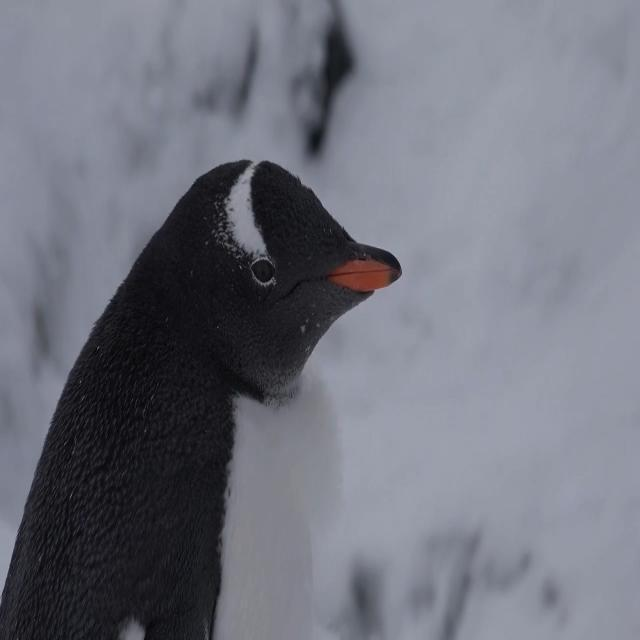penguin: (3, 161, 403, 638)
